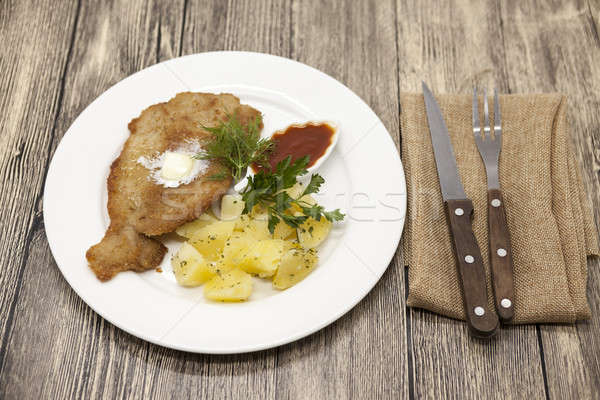boiled potatoes: (170, 203, 315, 302)
